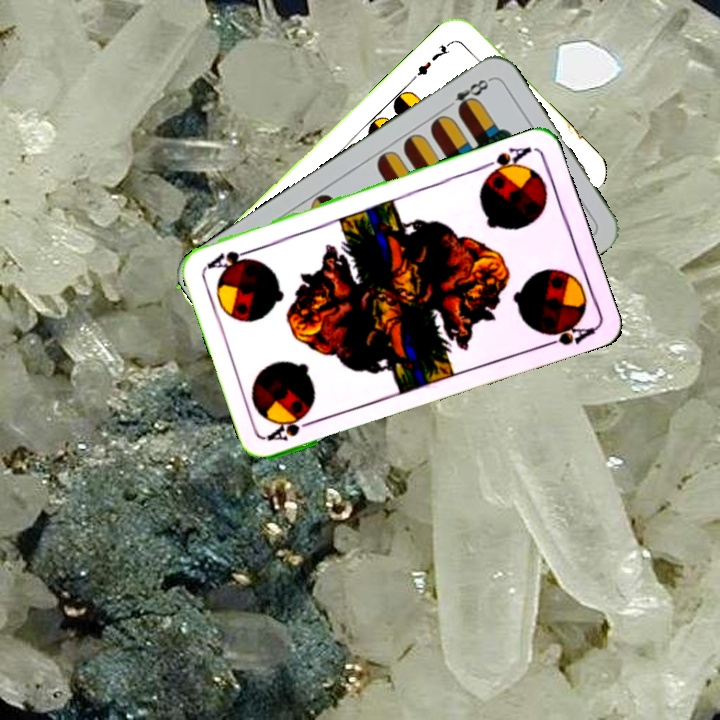E7: (409, 36, 456, 83)
E8: (440, 73, 493, 115)
SA: (477, 142, 535, 181), (263, 411, 321, 444)
